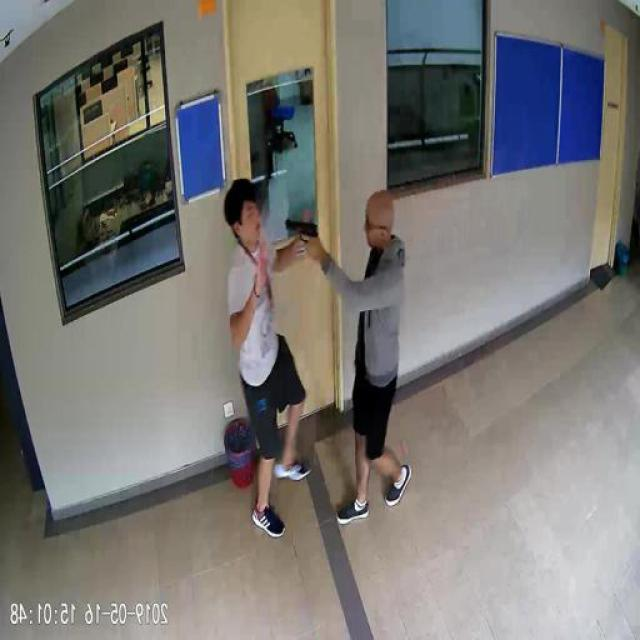weapon: (284, 217, 326, 258)
